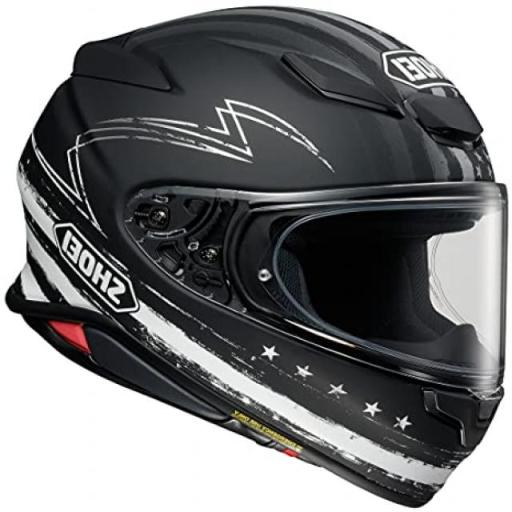Helmet: (8, 8, 506, 506)
